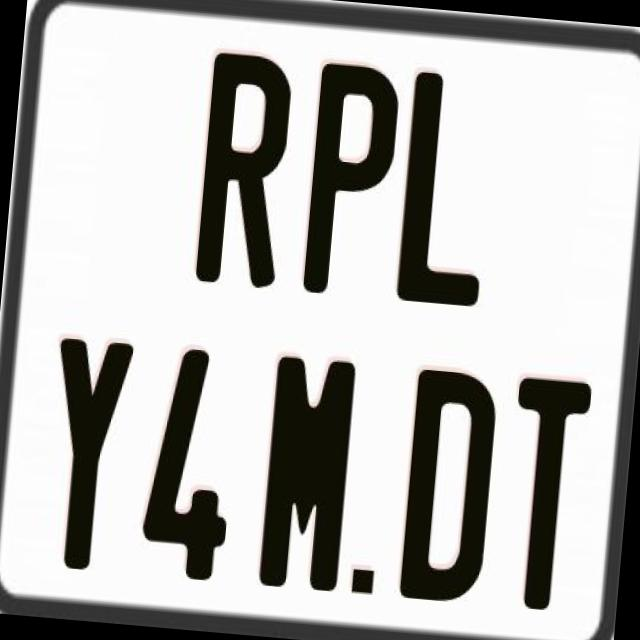4: (134, 346, 238, 590)
D: (395, 366, 496, 604)
L: (396, 70, 504, 309)
M: (255, 354, 359, 600)
P: (298, 56, 402, 302)
R: (191, 52, 292, 288)
T: (496, 376, 592, 614)
Y: (37, 332, 136, 575)
